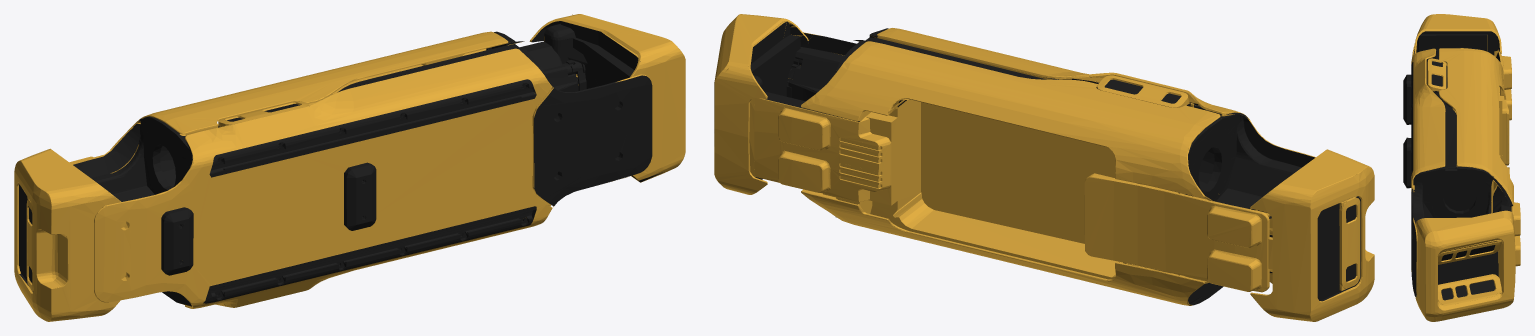
The model's file is body.obj.
3 renders of one model, left to right at view 1: azimuth 30°, elevation 25°; view 2: azimuth 150°, elevation 25°; view 3: azimuth 270°, elevation 25°, orthographic. The views are drawn at different scales.
Visible parts, largest first — view 1: _2-042137-001-A00_TOP_LEVEL_DEFEATURED_-_NOT_FOR_PRODUCTION_020; view 2: _2-042137-001-A00_TOP_LEVEL_DEFEATURED_-_NOT_FOR_PRODUCTION_020; view 3: _2-042137-001-A00_TOP_LEVEL_DEFEATURED_-_NOT_FOR_PRODUCTION_020.
Part boxes in pixels (bbox=[...]): _2-042137-001-A00_TOP_LEVEL_DEFEATURED_-_NOT_FOR_PRODUCTION_020: bbox=[14, 14, 685, 321]; _2-042137-001-A00_TOP_LEVEL_DEFEATURED_-_NOT_FOR_PRODUCTION_020: bbox=[714, 14, 1374, 321]; _2-042137-001-A00_TOP_LEVEL_DEFEATURED_-_NOT_FOR_PRODUCTION_020: bbox=[1403, 14, 1520, 321].
Size of the model in its own units: 0.8724 by 0.2392 by 0.1947.
